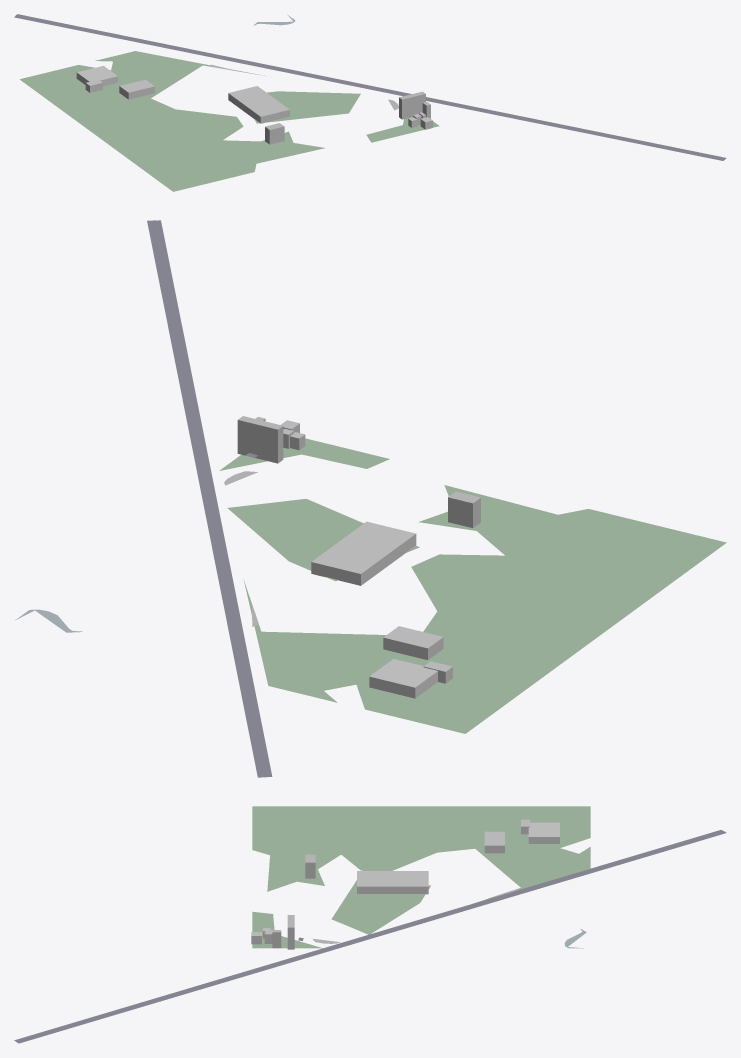
File: 138_81_mid.glb
The picture shows the model from 3 angles, top to bottom: view 1: azimuth 30°, elevation 25°; view 2: azimuth 150°, elevation 25°; view 3: azimuth 270°, elevation 25°; orthographic projection. The views are drawn at different scales.
Size of the model in its own units: 839 by 37.43 by 1054.
